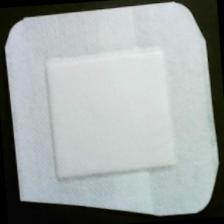Cut: (2, 1, 224, 224)
